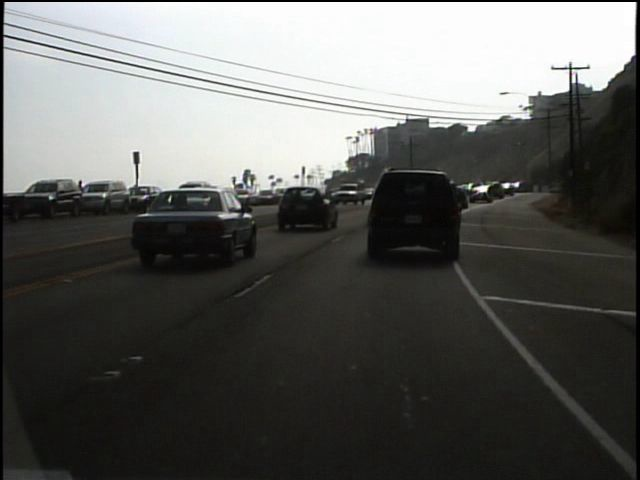person: (77, 179, 89, 189)
